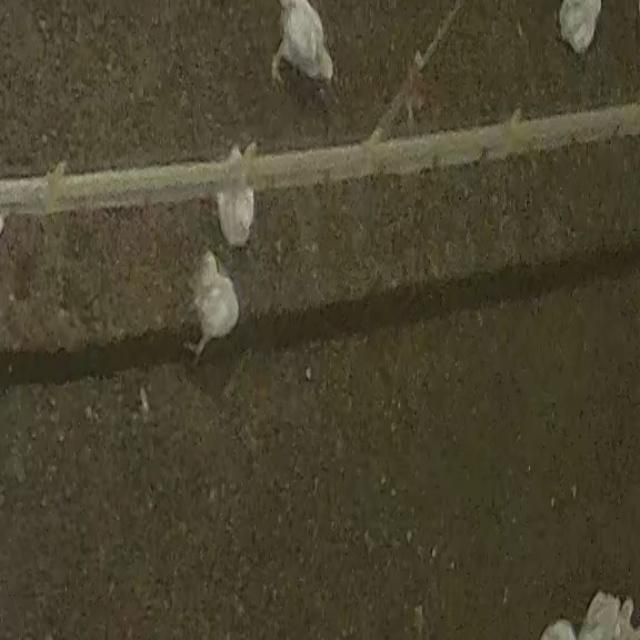chicken: (273, 0, 335, 90), (191, 249, 241, 348), (212, 152, 255, 247), (579, 581, 640, 640), (555, 0, 602, 56)
